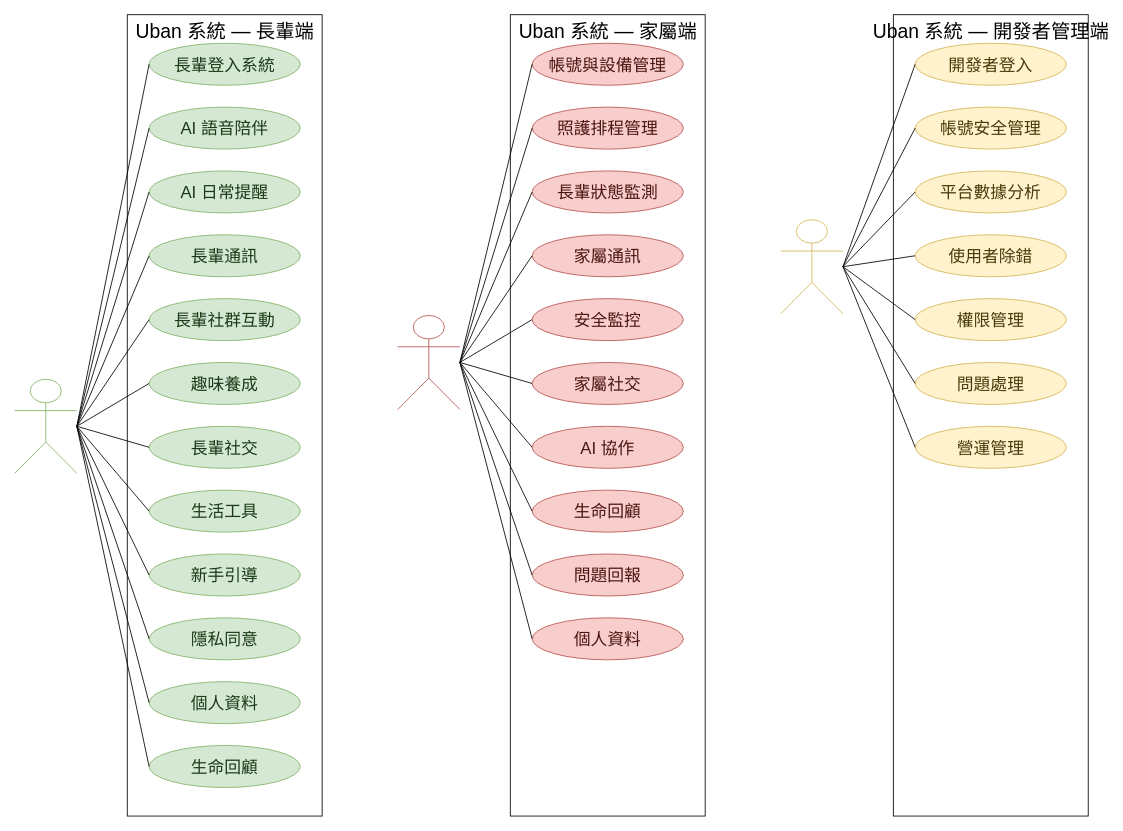
Some shapes in this 1123 by 831 pixel diagram are drawn without their labels. The centre of each missing label's shape, as x and y in pixels:
家屬: [428,362]
長輩: [45,425]
開發者: [811,266]
